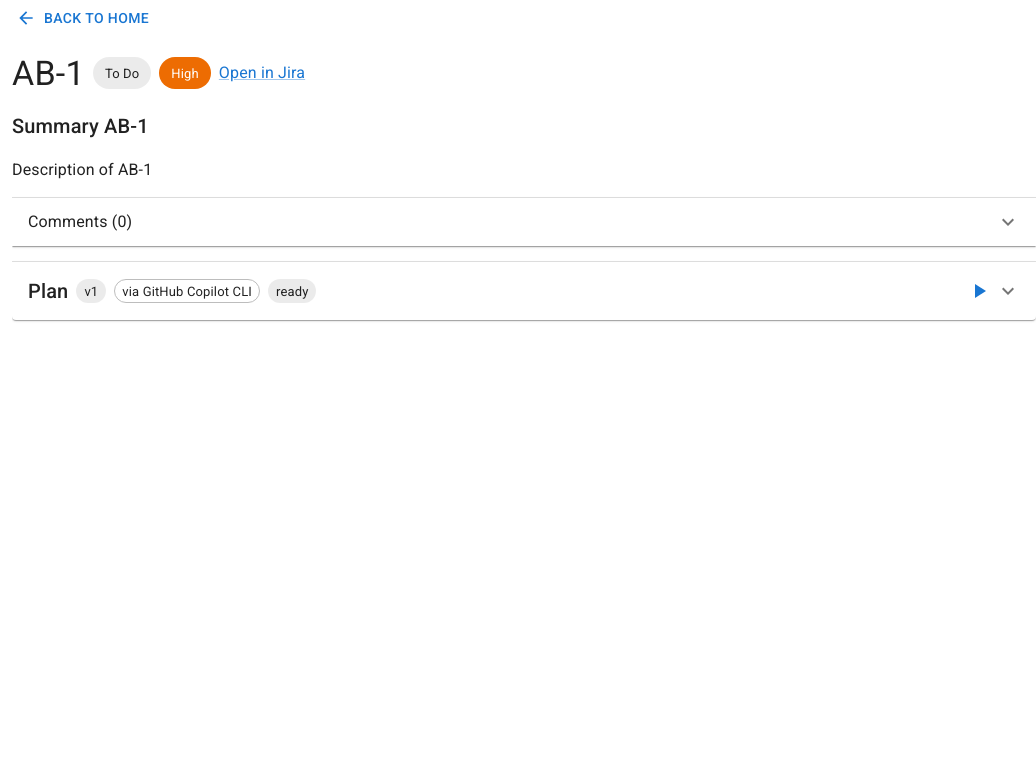
Test: Approve records the decision
The width and height of the screenshot is (1036, 768).
Click the button "Plan v1 via GitHub Copilot CLI ready": coordinates (48, 291) left=28, top=274, right=1020, bottom=308
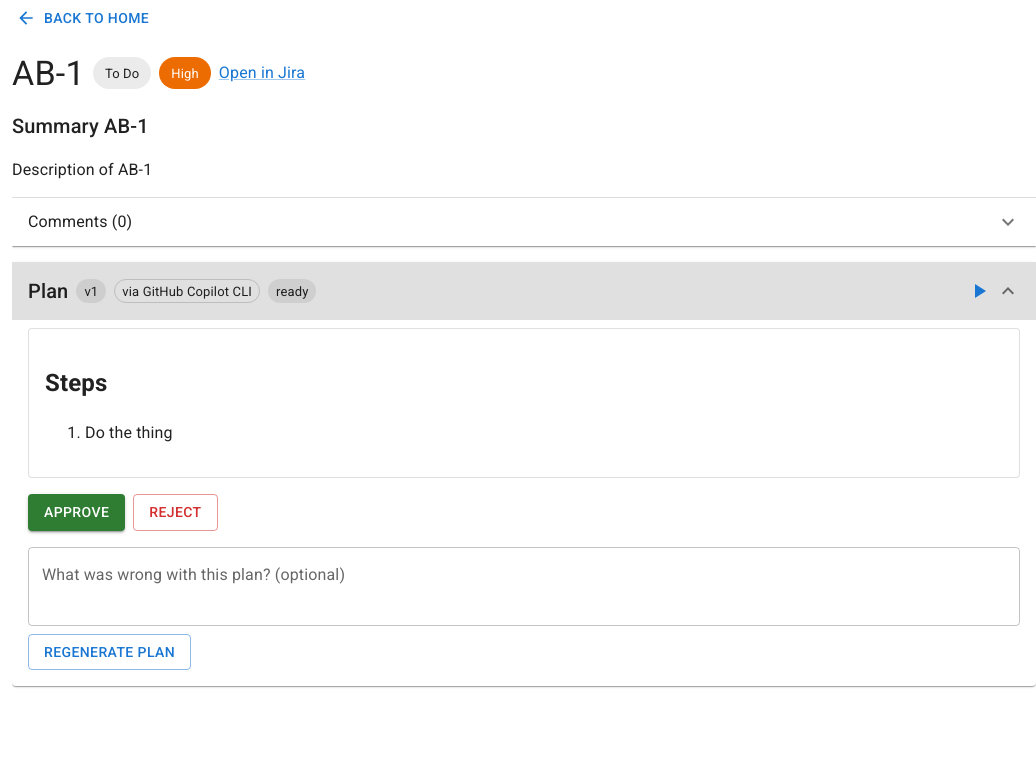
Click the button "Approve": coordinates (77, 513) left=28, top=494, right=125, bottom=531
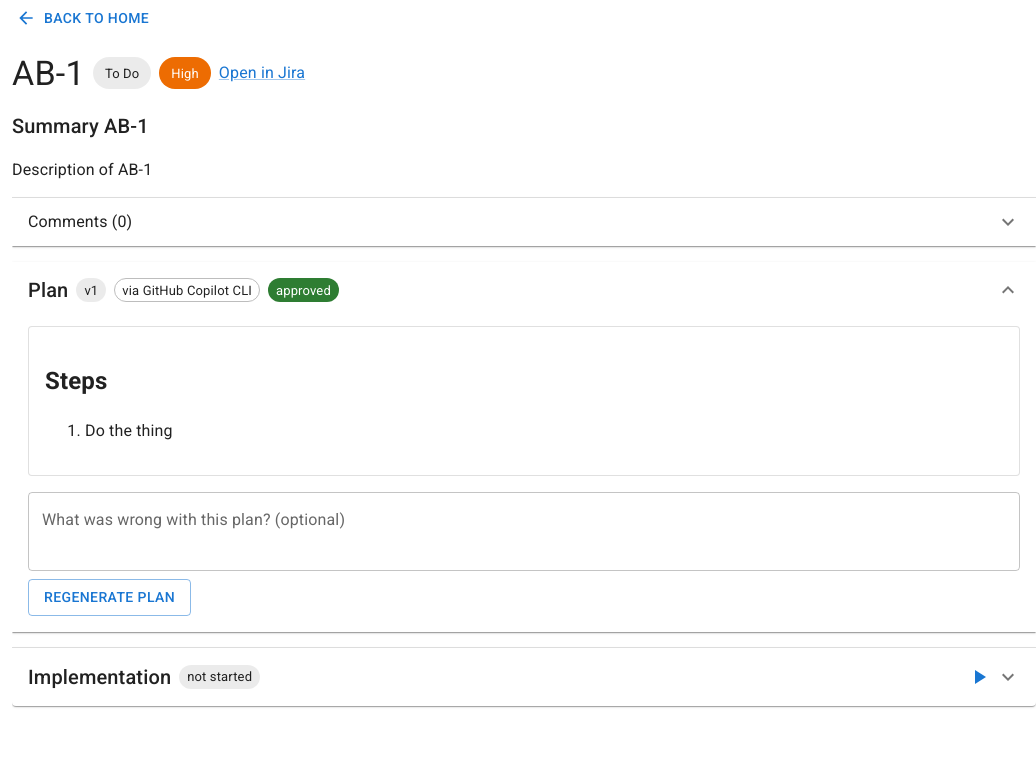
Expected: the text "approved" is shown, left=276, top=283, right=331, bottom=298
